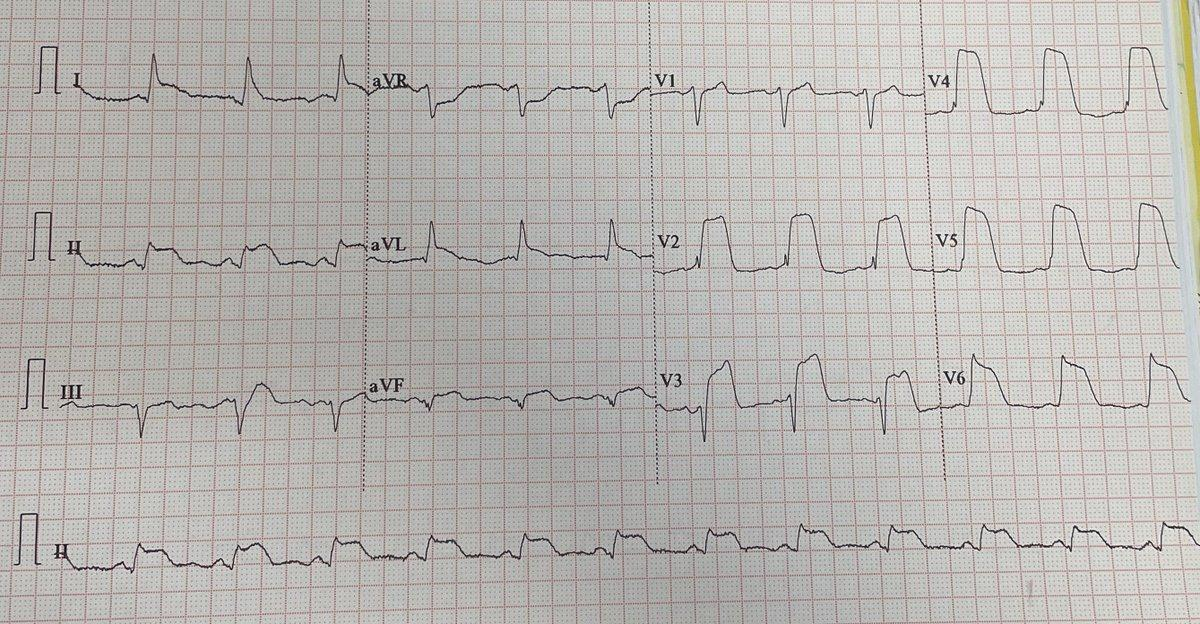Lead_I: (67, 35, 369, 143)
Lead_II: (63, 206, 372, 289)
Lead_III: (51, 366, 365, 450)
Lead_II_ext: (45, 504, 1200, 586)
Lead_V1: (655, 53, 925, 147)
Lead_V2: (654, 198, 934, 295)
Lead_V3: (655, 342, 941, 462)
Lead_V4: (922, 31, 1174, 139)
Lead_V5: (931, 189, 1191, 290)
Lead_V6: (940, 337, 1194, 425)
Lead_aVF: (361, 360, 655, 425)
Lead_aVL: (368, 203, 656, 295)
Lead_aVR: (372, 50, 655, 133)
